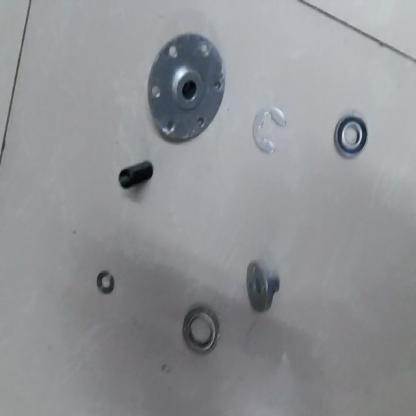FOD: (142, 32, 230, 145), (245, 257, 284, 319), (178, 304, 221, 356), (251, 101, 290, 156), (330, 113, 369, 163), (113, 160, 157, 192), (93, 269, 117, 299)
